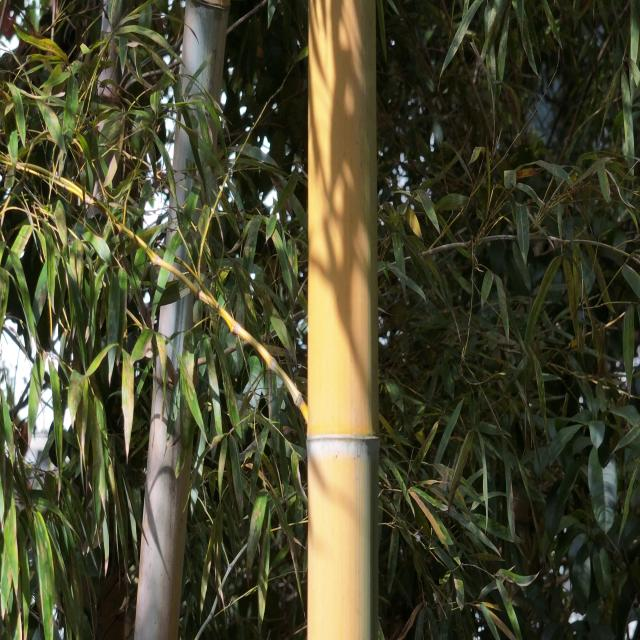Bamboo-shoots: (309, 0, 378, 640)
